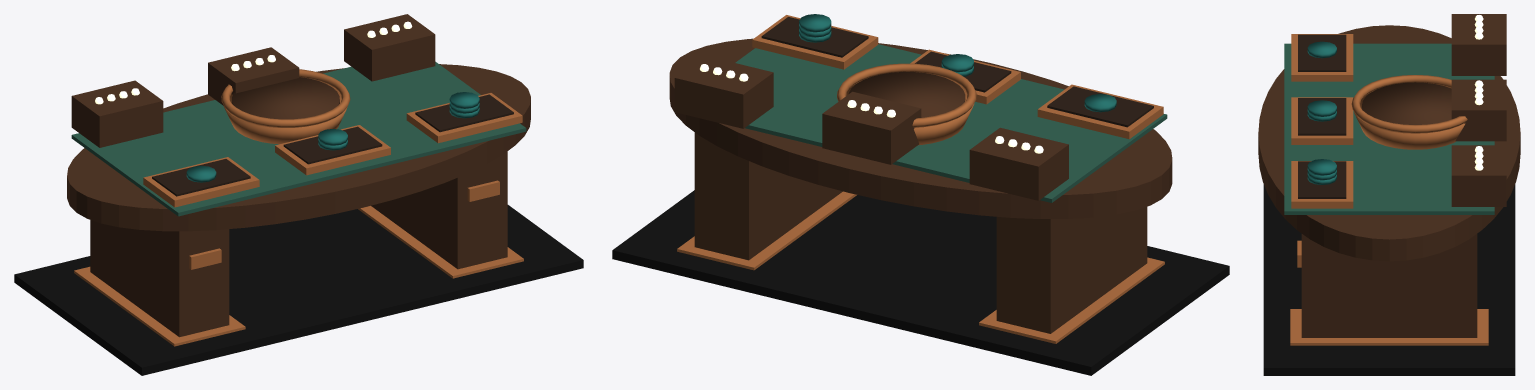
Rendered from common_pot_table.glb.
3 views of the same model, side by side, from view 1: azimuth 30°, elevation 25°; view 2: azimuth 150°, elevation 25°; view 3: azimuth 270°, elevation 25° (orthographic). The views are drawn at different scales.
Parts seen in each view (by area): view 1: common_pot_table wood, common_pot_table rubber, common_pot_table felt, common_pot_table metal, common_pot_table sign, common_pot_table glass, common_pot_table lamp; view 2: common_pot_table wood, common_pot_table rubber, common_pot_table felt, common_pot_table metal, common_pot_table sign, common_pot_table glass, common_pot_table lamp; view 3: common_pot_table wood, common_pot_table rubber, common_pot_table felt, common_pot_table metal, common_pot_table sign, common_pot_table glass, common_pot_table lamp.
Part boxes in pixels (box(x1,y1,x2,y2)): common_pot_table wood: box(67, 14, 530, 337); common_pot_table rubber: box(14, 205, 583, 375); common_pot_table felt: box(71, 61, 526, 216); common_pot_table metal: box(74, 69, 523, 346); common_pot_table sign: box(152, 94, 513, 196); common_pot_table glass: box(186, 92, 479, 182); common_pot_table lamp: box(95, 21, 412, 104); common_pot_table wood: box(669, 38, 1172, 333); common_pot_table rubber: box(612, 190, 1229, 375); common_pot_table felt: box(735, 44, 1167, 202); common_pot_table metal: box(677, 15, 1164, 343); common_pot_table sign: box(761, 17, 1153, 127); common_pot_table glass: box(799, 14, 1116, 112); common_pot_table lamp: box(700, 64, 1043, 153); common_pot_table wood: box(1258, 14, 1520, 337); common_pot_table rubber: box(1263, 184, 1515, 375); common_pot_table felt: box(1284, 43, 1494, 214); common_pot_table metal: box(1290, 34, 1488, 345); common_pot_table sign: box(1298, 34, 1346, 198); common_pot_table glass: box(1307, 41, 1336, 184); common_pot_table lamp: box(1474, 15, 1483, 170).
Size of what is drawn, in the model's own units: 2.94 by 1.16 by 1.52.
